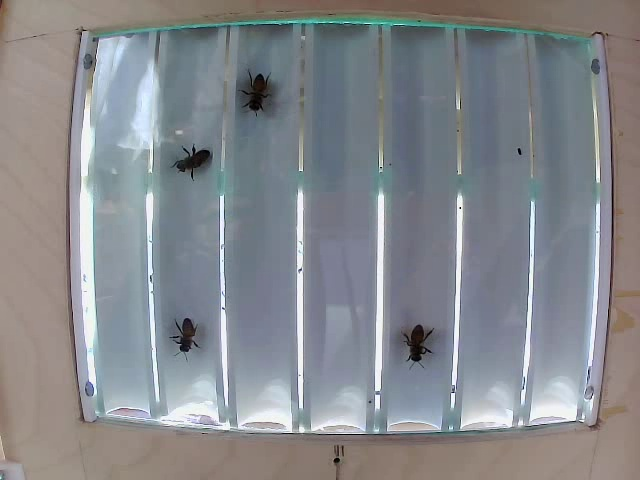bee: (231, 72, 281, 125), (391, 310, 438, 362), (166, 136, 218, 171), (173, 309, 206, 357)
